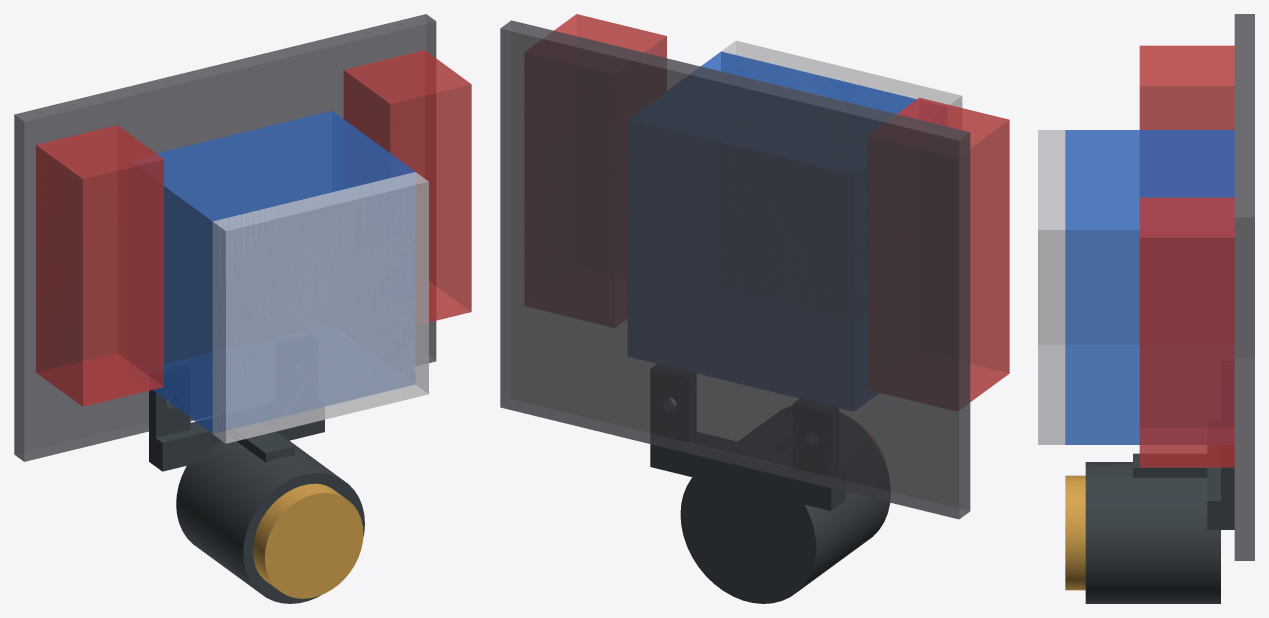
File: cart-pod-holder-v1.glb
3 renders of one model, left to right at view 1: azimuth 30°, elevation 25°; view 2: azimuth 150°, elevation 25°; view 3: azimuth 270°, elevation 25°, orthographic. The views are drawn at different scales.
Parts seen in each view (by area): view 1: plate, battery, motors, arm_base, cart_pod_holder, seedling_pod; view 2: plate, cart_pod_holder, motors, battery, arm_base; view 3: motors, battery, cart_pod_holder, plate, arm_base, seedling_pod.
Boxes of the visible parts, x1,y1,x2,y2 form: plate: [14, 14, 436, 461]; battery: [153, 110, 415, 433]; motors: [36, 50, 471, 406]; arm_base: [212, 172, 428, 443]; cart_pod_holder: [149, 366, 364, 603]; seedling_pod: [253, 483, 363, 598]; plate: [500, 20, 970, 519]; cart_pod_holder: [650, 364, 890, 603]; motors: [524, 14, 1009, 410]; battery: [628, 51, 916, 409]; arm_base: [721, 40, 962, 113]; motors: [1139, 45, 1234, 467]; battery: [1065, 130, 1234, 444]; cart_pod_holder: [1085, 445, 1234, 603]; plate: [1234, 14, 1254, 560]; arm_base: [1038, 130, 1065, 444]; seedling_pod: [1065, 475, 1085, 590].
Size of the model in its own units: 142 by 157 by 64.
